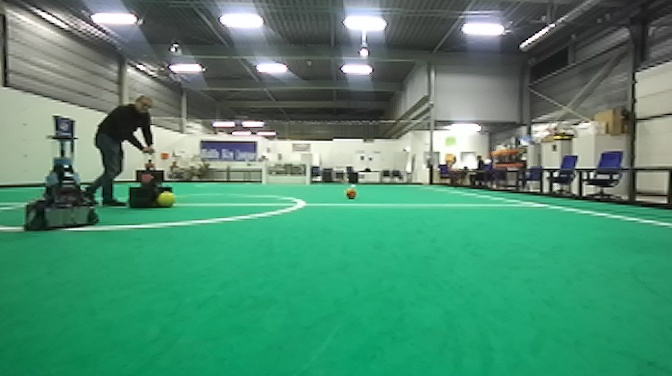ball: (156, 190, 178, 209), (343, 187, 358, 204)
goal: (261, 161, 311, 188)
goalpost: (260, 159, 267, 188), (306, 160, 311, 187)
robot: (20, 112, 104, 237), (126, 149, 176, 212)
